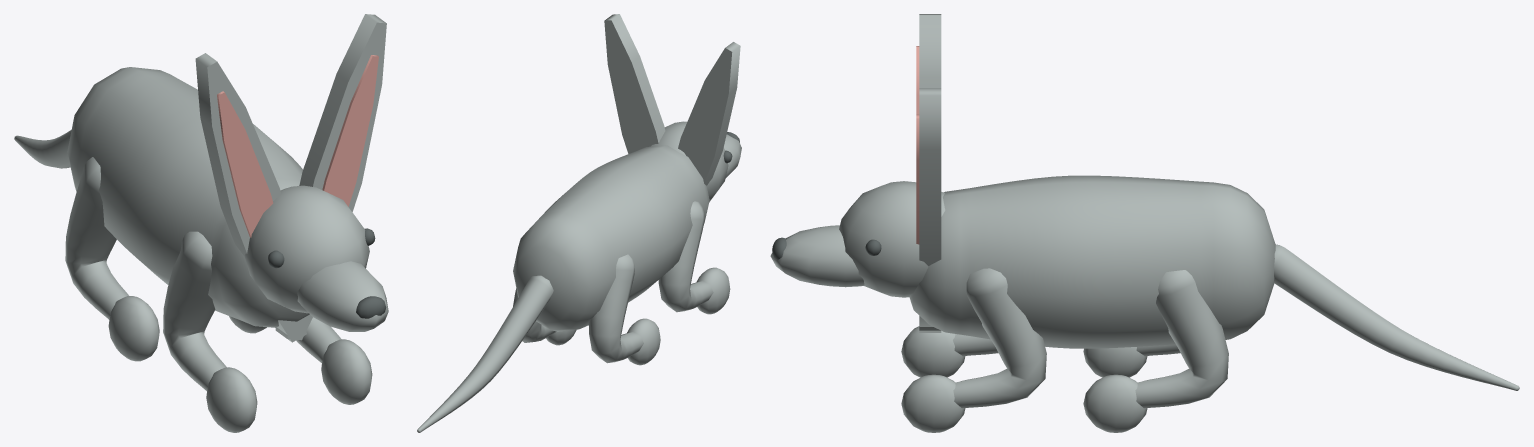
Rendered from outback-and-australian-wildlife-bilby-5012d640__5912.glb.
3 renders of one model, left to right at view 1: azimuth 30°, elevation 25°; view 2: azimuth 150°, elevation 25°; view 3: azimuth 270°, elevation 25°, orthographic. The views are drawn at different scales.
Visible parts, largest first — view 1: bilby; view 2: bilby; view 3: bilby.
Part boxes in pixels (box(x1,y1,x2,y2)): bilby: box(14, 14, 388, 432); bilby: box(417, 14, 741, 432); bilby: box(770, 14, 1519, 432).
Size of the model in its own units: 0.2197 by 0.4438 by 0.8518.
